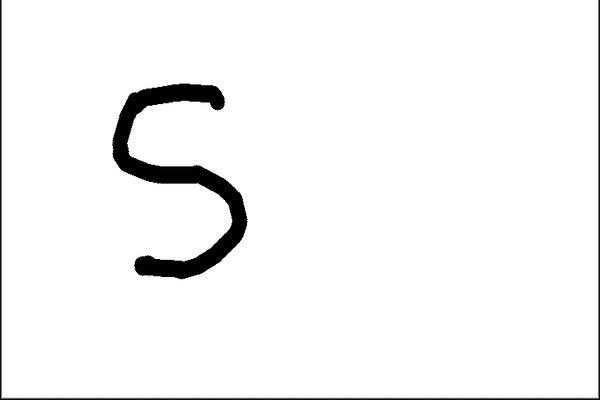S: (107, 79, 251, 283)
